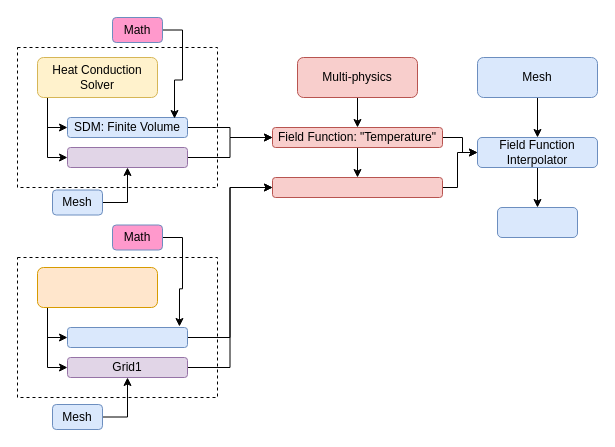
This 615x447 diagram has some shape labels left out. Each missing label, with the centre of its shape:
Field Function: "Q E ": point 357,187
Grid0: point 127,157
Neutron Transport Solver: point 97,287
Output: point 537,222
SDM: PWLD FEM: point 127,337
